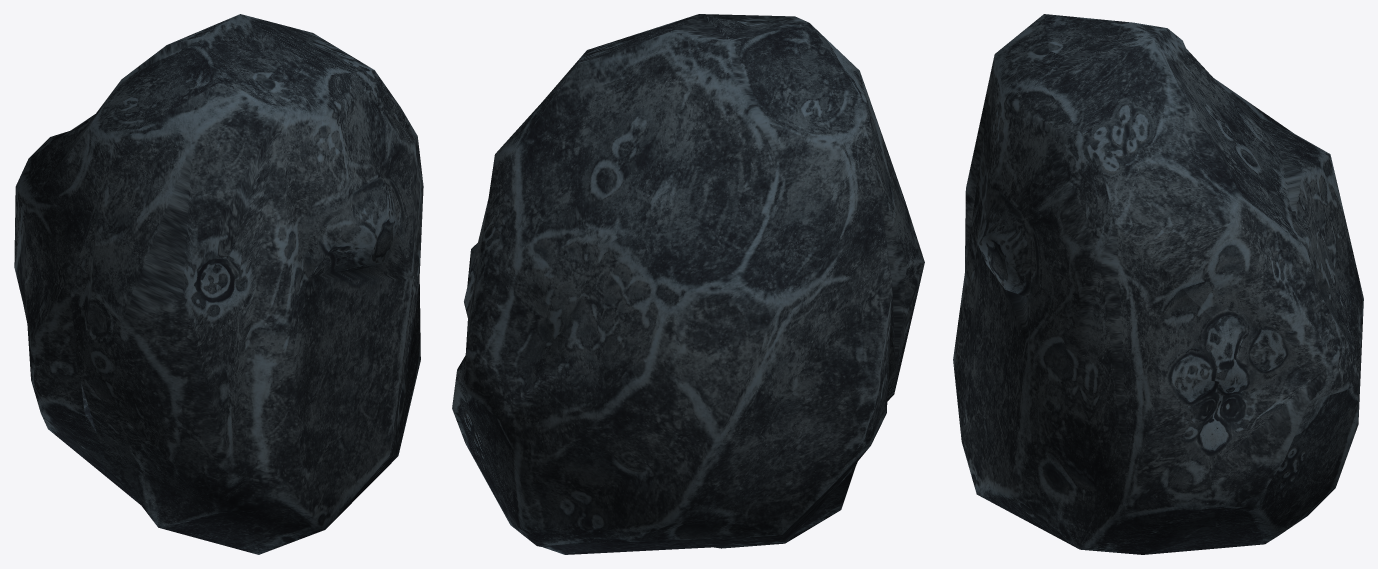
File: rock2.gltf
3 renders of one model, left to right at view 1: azimuth 30°, elevation 25°; view 2: azimuth 150°, elevation 25°; view 3: azimuth 270°, elevation 25°, orthographic. The views are drawn at different scales.
Parts seen in each view (by area): view 1: RockLP; view 2: RockLP; view 3: RockLP.
Part boxes in pixels (x1,y1,x2,y2): RockLP: (14,14,423,554); RockLP: (452,14,924,554); RockLP: (953,14,1363,554).
Size of the model in its own units: 2.39 by 3.05 by 2.27.
Materials: 1 (1 with a texture image).
